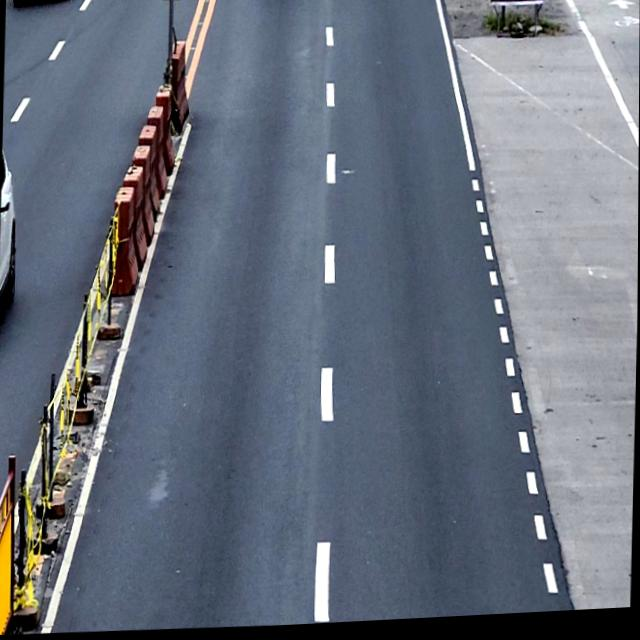Car: (0, 147, 18, 304)
